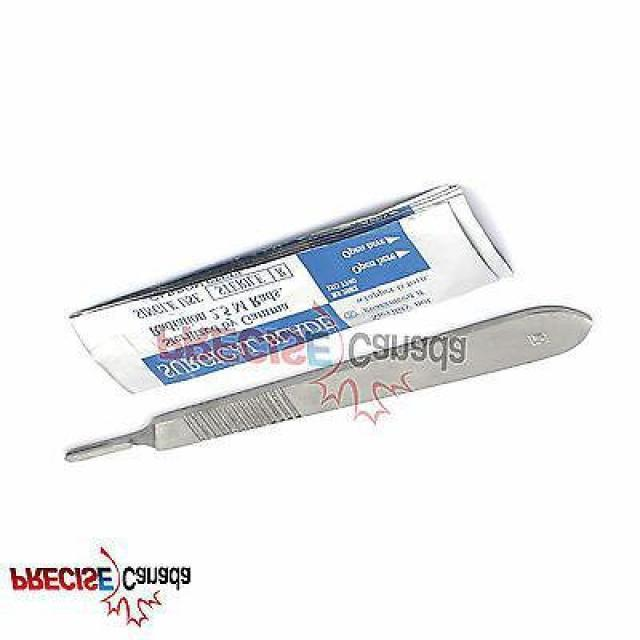Scalpel: (61, 299, 597, 469)
